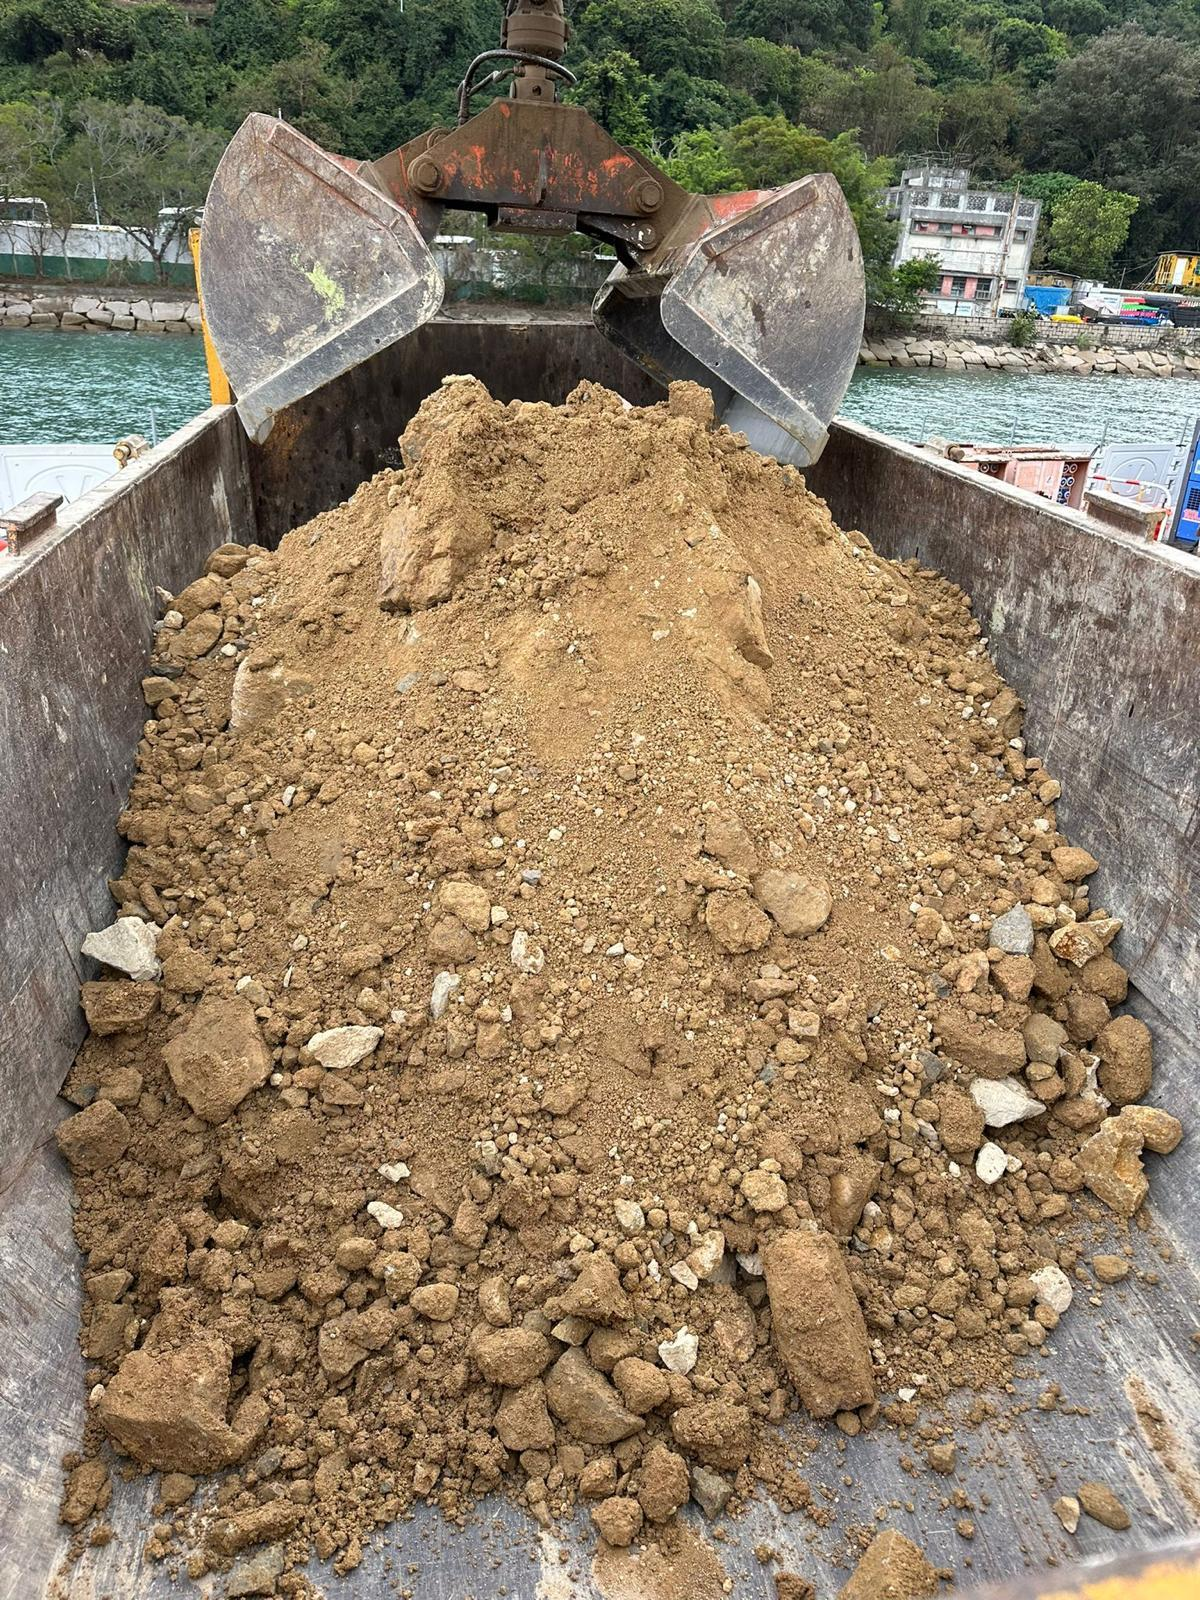dry: (90, 388, 1145, 1455)
